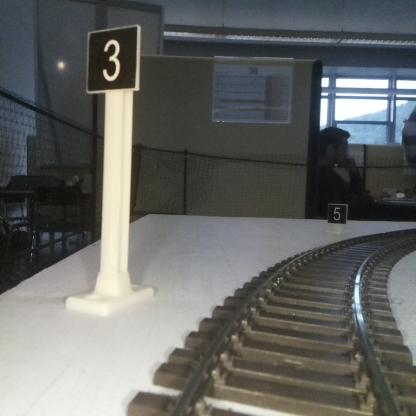black-info-3: (87, 27, 137, 310)
black-stop-5: (328, 203, 346, 233)
